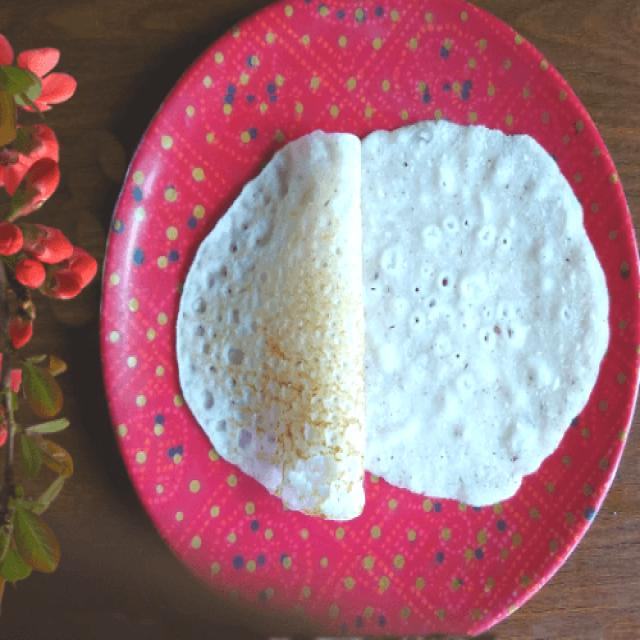DOSA: (364, 120, 608, 504), (178, 131, 364, 518)
